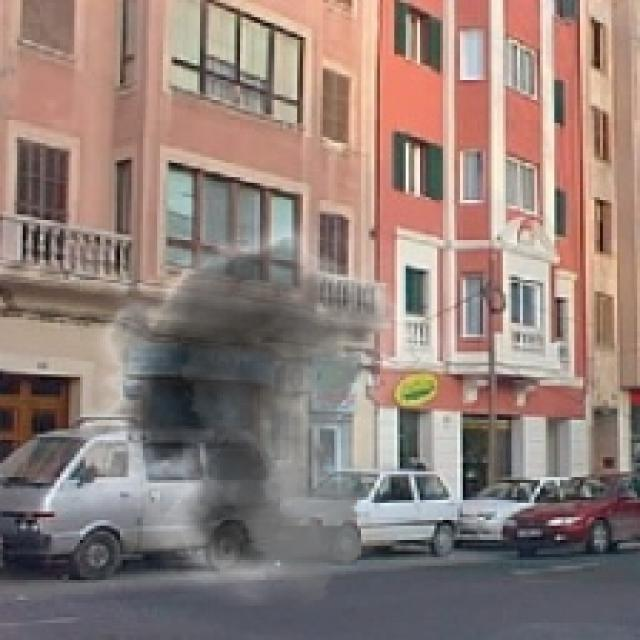Smoke: (54, 203, 474, 606)
